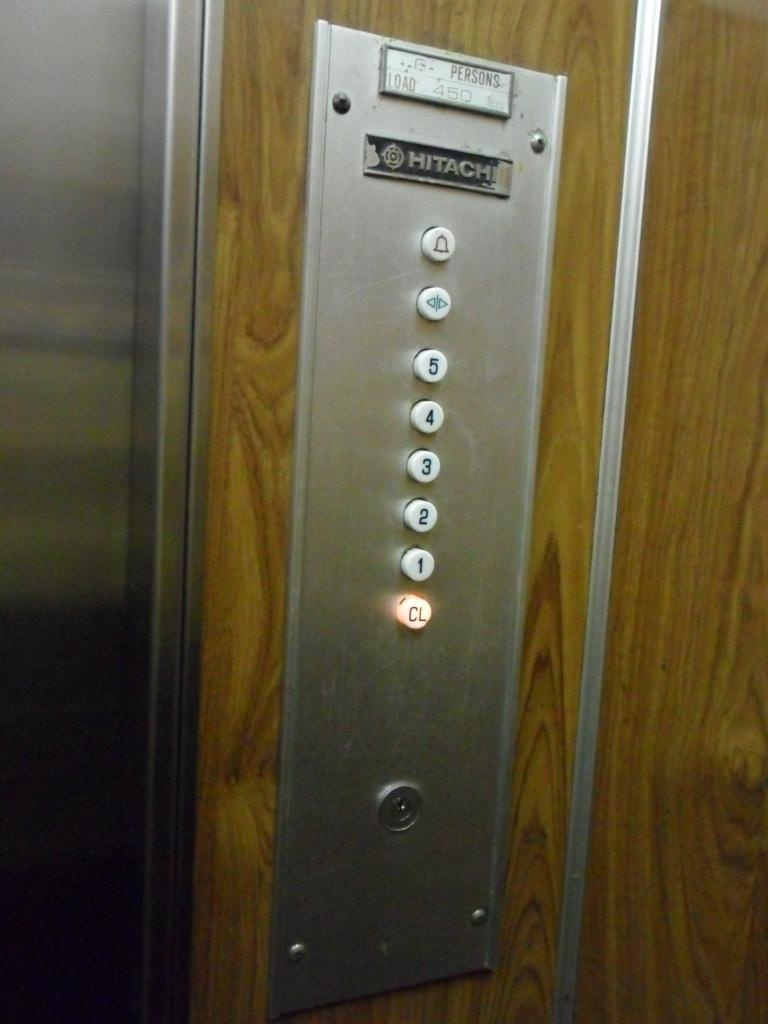1: (398, 542, 436, 586)
2: (401, 494, 439, 538)
3: (404, 443, 442, 487)
4: (408, 394, 446, 438)
5: (411, 343, 449, 387)
CL: (396, 590, 434, 634)
alarm: (420, 222, 458, 266)
keyhole: (373, 776, 428, 837)
open: (415, 280, 453, 324)
